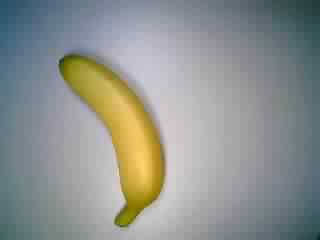banana: (54, 52, 170, 230)
